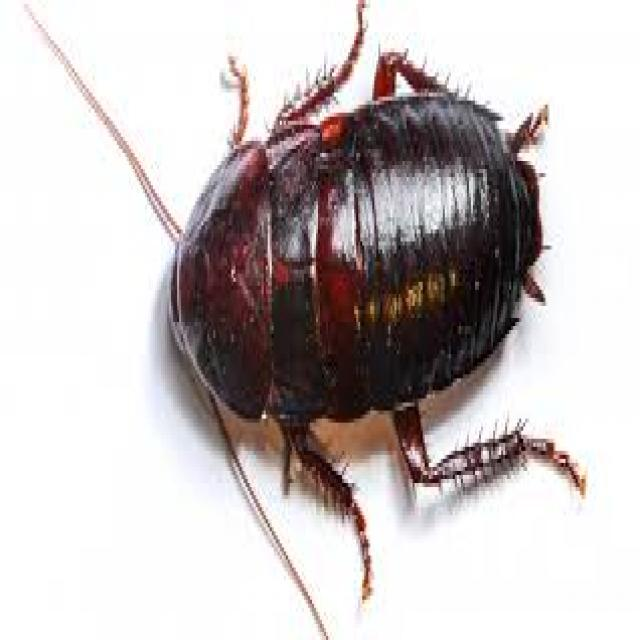Cockroach: (24, 0, 593, 640)
